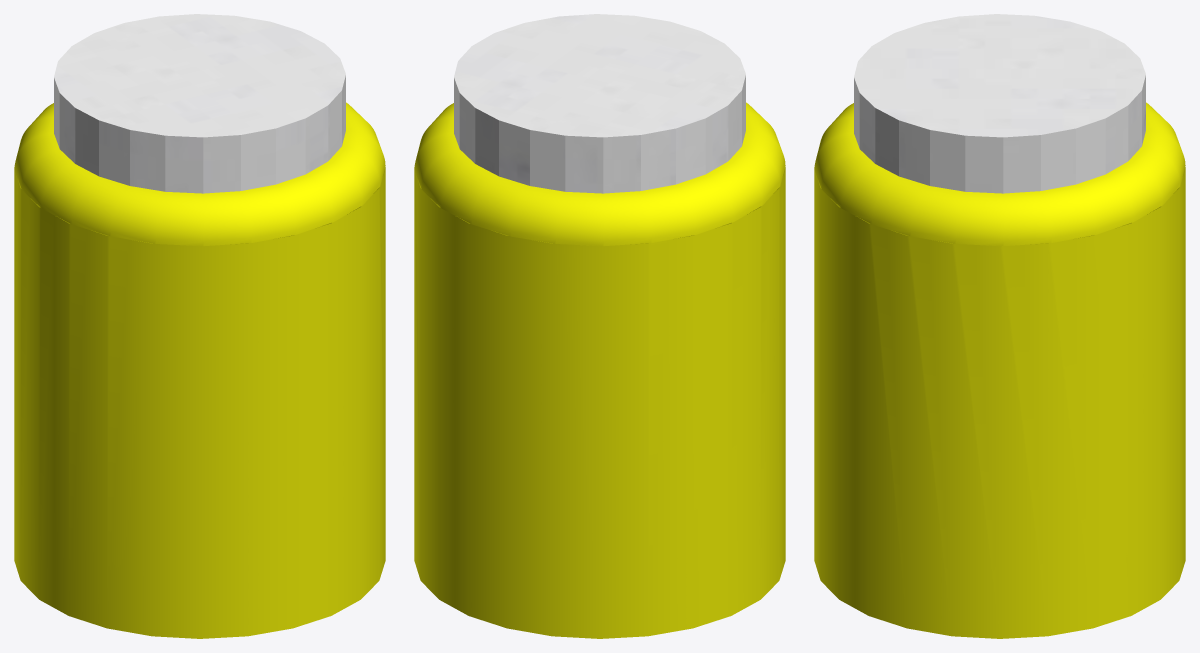
File: RemedioAmarelo.dae
The picture shows the model from 3 angles, left to right: view 1: azimuth 30°, elevation 25°; view 2: azimuth 150°, elevation 25°; view 3: azimuth 270°, elevation 25°; orthographic projection.
Visible parts, largest first — view 1: instance_0 (×2); view 2: instance_0 (×2); view 3: instance_0 (×2).
Boxes of the visible parts, left/top/right/bottom form: instance_0 (×2): left=14, top=14, right=385, bottom=638; instance_0 (×2): left=414, top=14, right=785, bottom=638; instance_0 (×2): left=814, top=14, right=1185, bottom=638.
Bounding box in the file's own units: 2.01 × 2.01 × 2.89.
Materials: 2 (1 with a texture image).
